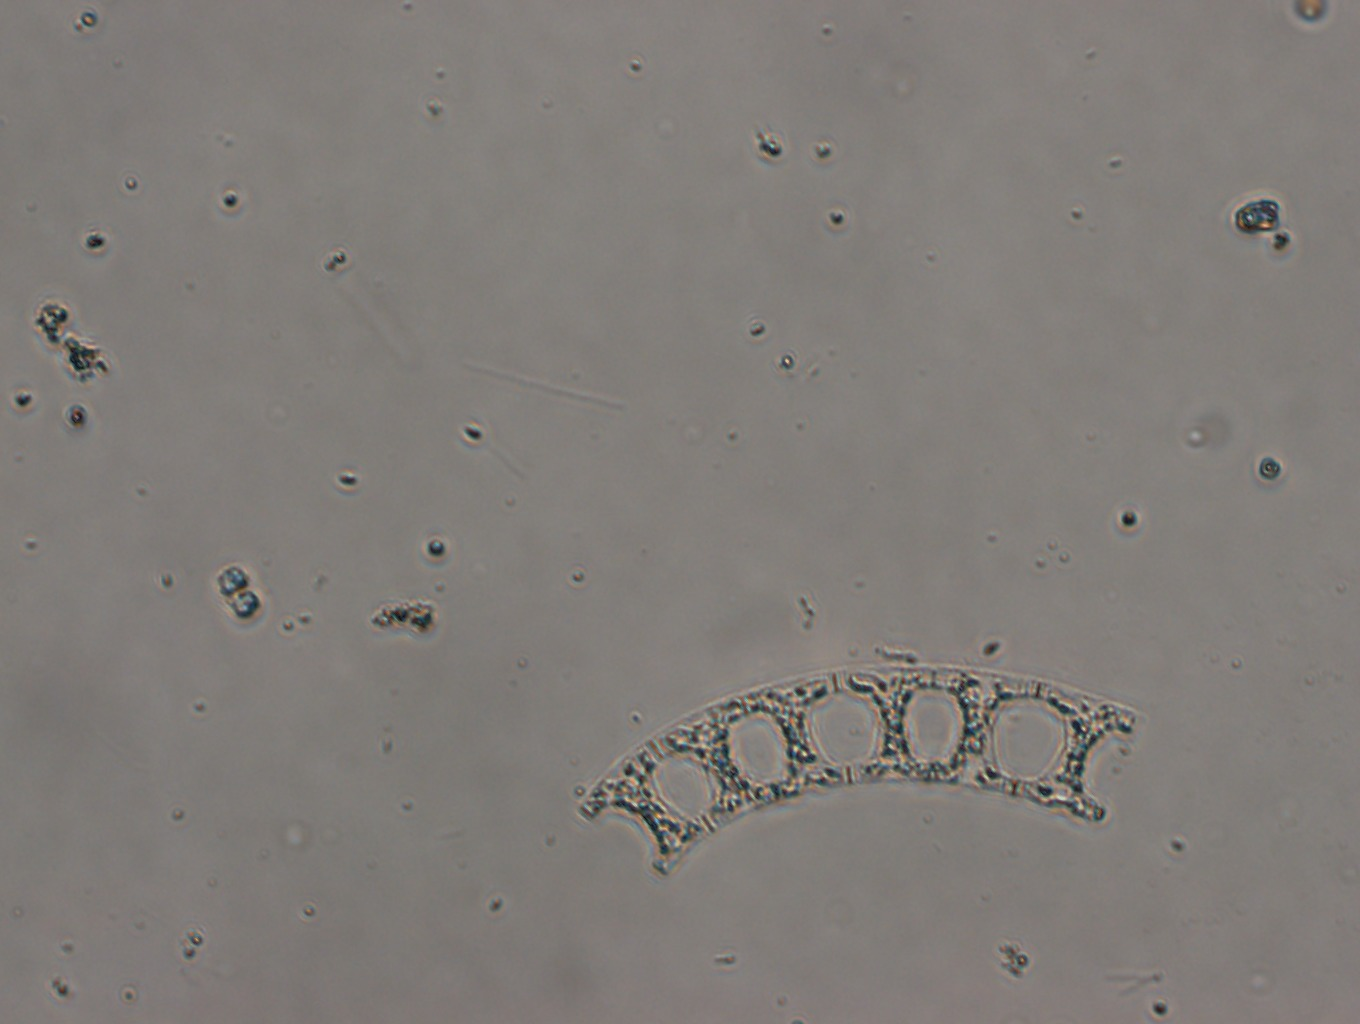eucampia: (579, 663, 1147, 881)
